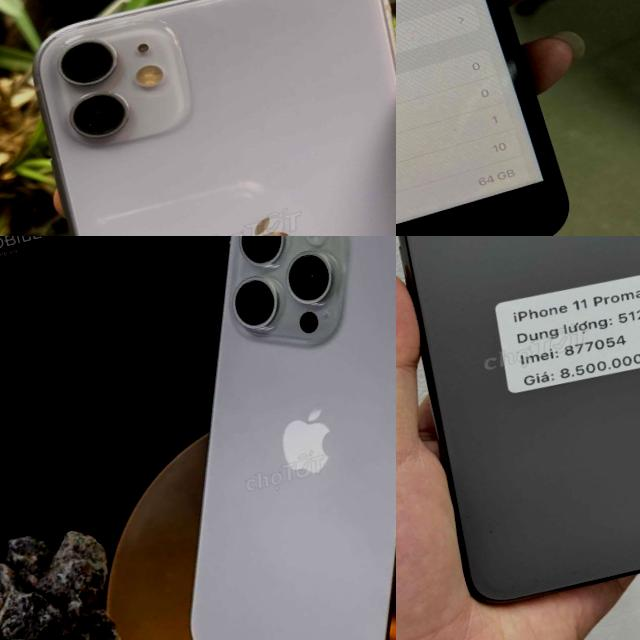gen_11: (396, 236, 640, 624), (0, 0, 396, 236), (396, 0, 589, 236)
gen_15: (76, 236, 396, 640)
